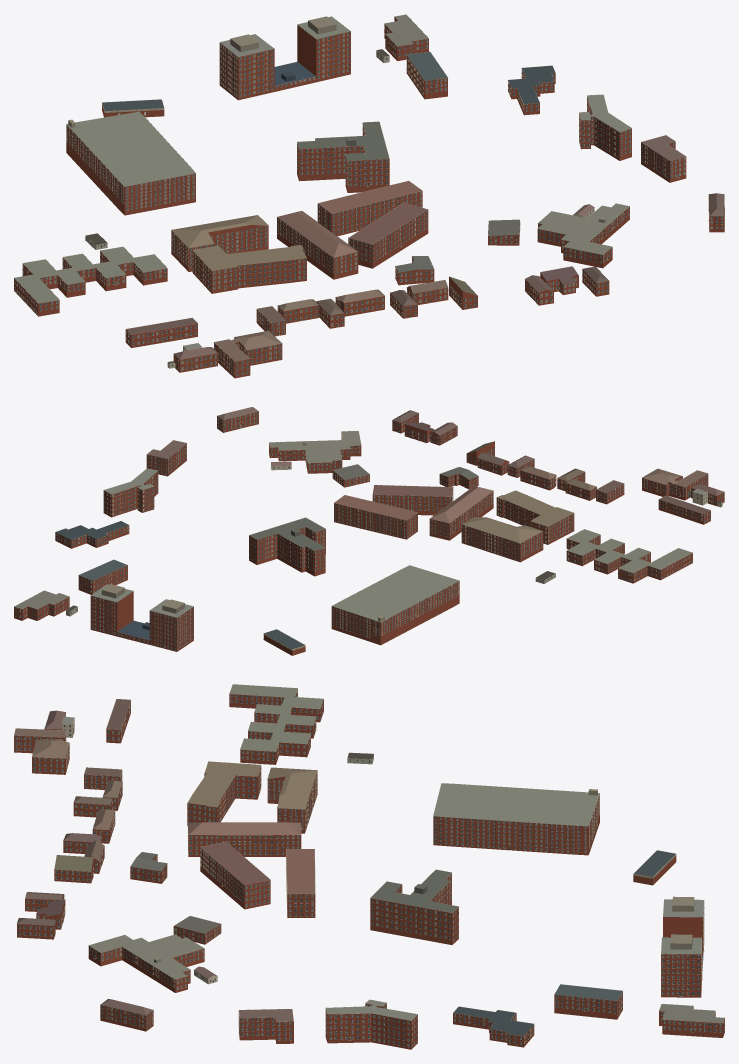
The picture shows the model from 3 angles, top to bottom: view 1: azimuth 30°, elevation 25°; view 2: azimuth 150°, elevation 25°; view 3: azimuth 270°, elevation 25°; orthographic projection. The views are drawn at different scales.
Parts seen in each view (by area): view 1: -4_-1_188498492_0; view 2: -4_-1_188498492_0; view 3: -4_-1_188498492_0.
Part boxes in pixels (left/top/right/bottom): -4_-1_188498492_0: left=14, top=14, right=724, bottom=378; -4_-1_188498492_0: left=14, top=407, right=724, bottom=655; -4_-1_188498492_0: left=14, top=684, right=724, bottom=1049.
Bounding box in the file's own units: 566 × 49.29 × 526.
